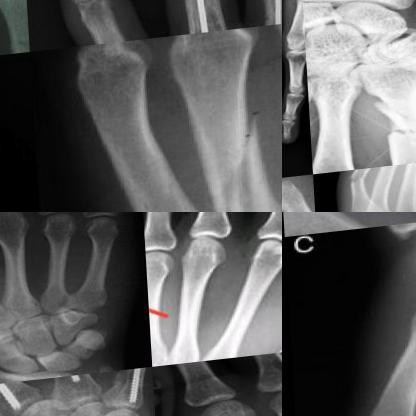fracture: (191, 113, 275, 211), (378, 116, 415, 158), (118, 372, 151, 415), (341, 174, 371, 201)
